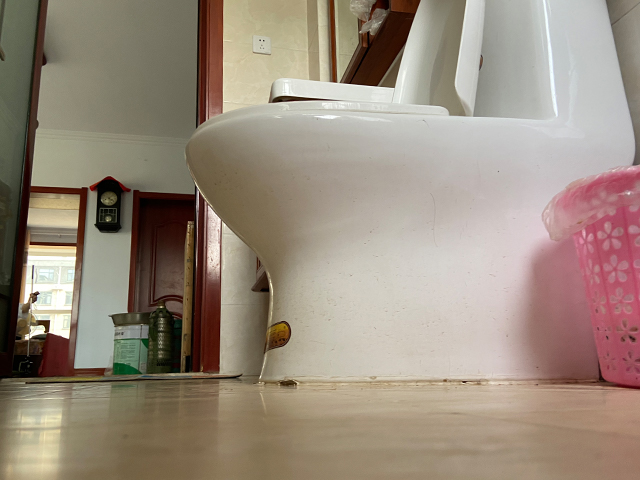carpet: (24, 371, 243, 385)
closestool: (183, 1, 640, 388)
trashcan: (540, 163, 640, 389)
